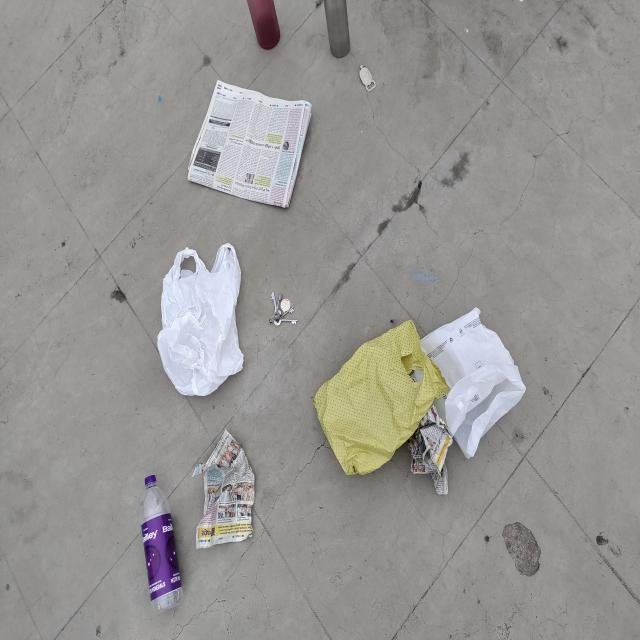metal: (261, 280, 306, 342), (360, 65, 384, 104)
paper: (200, 78, 318, 216), (197, 435, 262, 554), (414, 428, 451, 503)
plastic: (150, 233, 246, 391), (322, 324, 403, 482), (123, 465, 194, 617), (447, 317, 515, 388), (240, 0, 291, 55), (316, 0, 358, 64)
